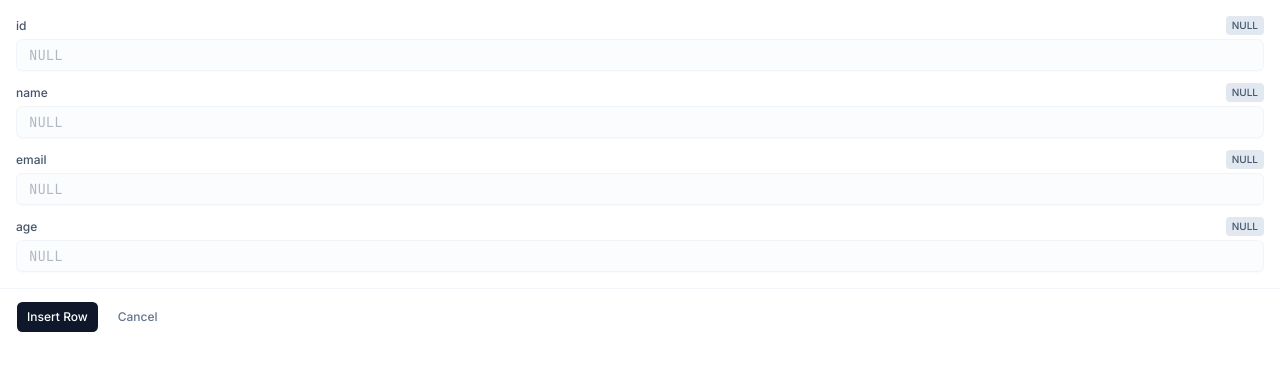
Test: InsertRowPanel › shows generic error for non-Error rejects
This screenshot has width=1280, height=391.
Click the button "Insert Row" at (57, 317), box x1=16 y1=301 x2=99 y2=333
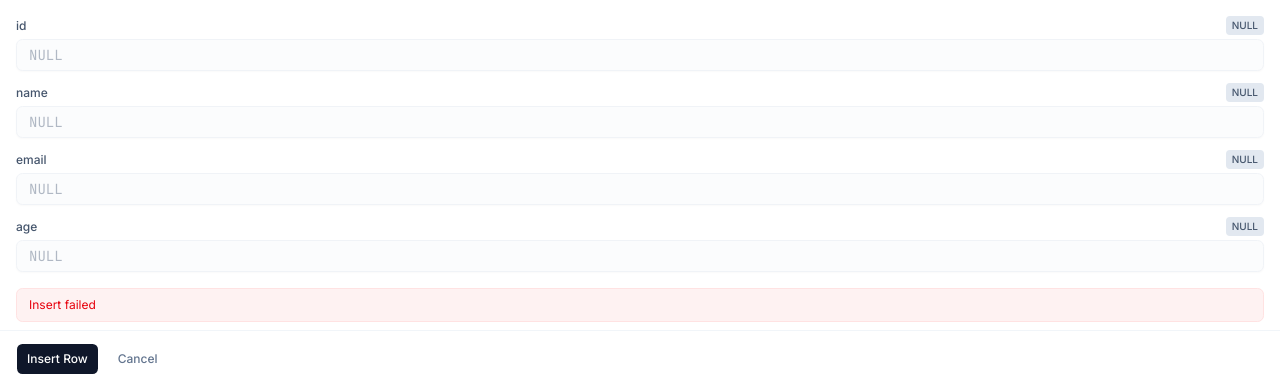
Result: the text "Insert failed" is shown at x1=16 y1=288 x2=1264 y2=322
